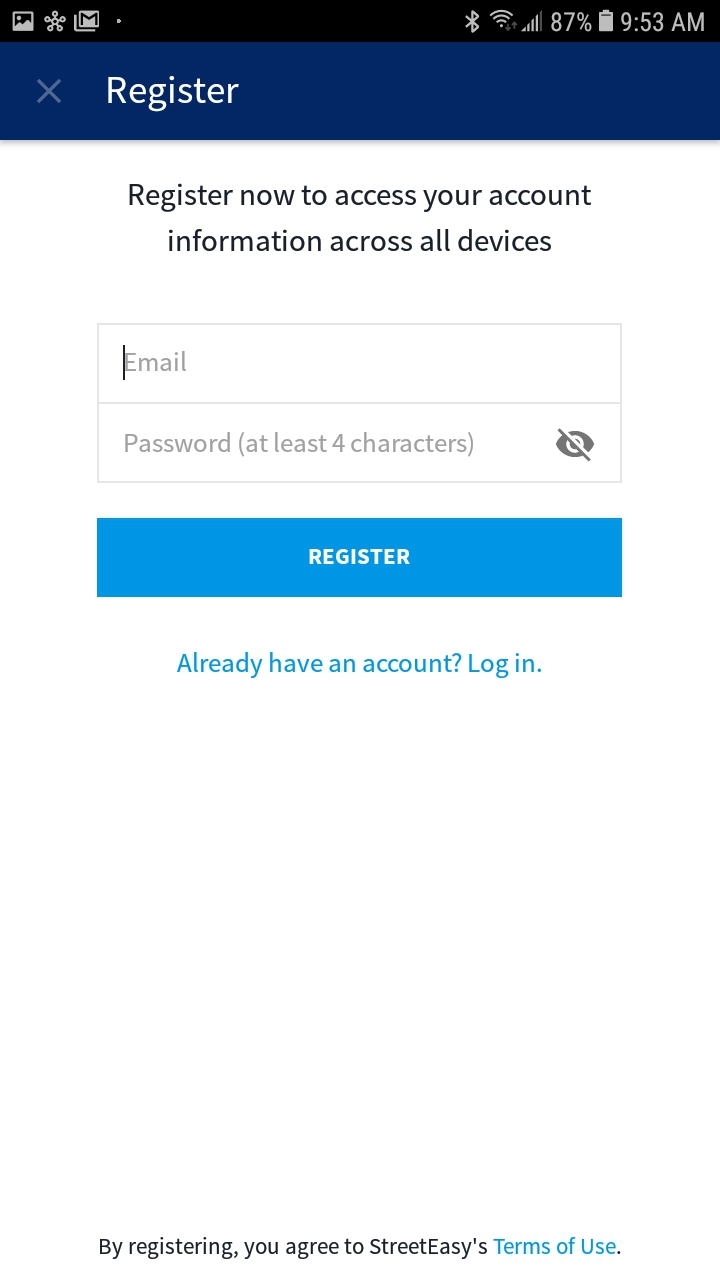EditText: (98, 324, 622, 405), (98, 403, 622, 484)
Icon: (556, 429, 595, 463), (37, 79, 63, 105)
Text: (129, 184, 592, 253), (100, 1235, 620, 1259), (177, 651, 542, 679), (124, 432, 474, 457), (108, 76, 240, 113), (126, 351, 188, 372)
TextButton: (97, 518, 622, 598)
UpperTaskBar: (1, 1, 720, 43)
